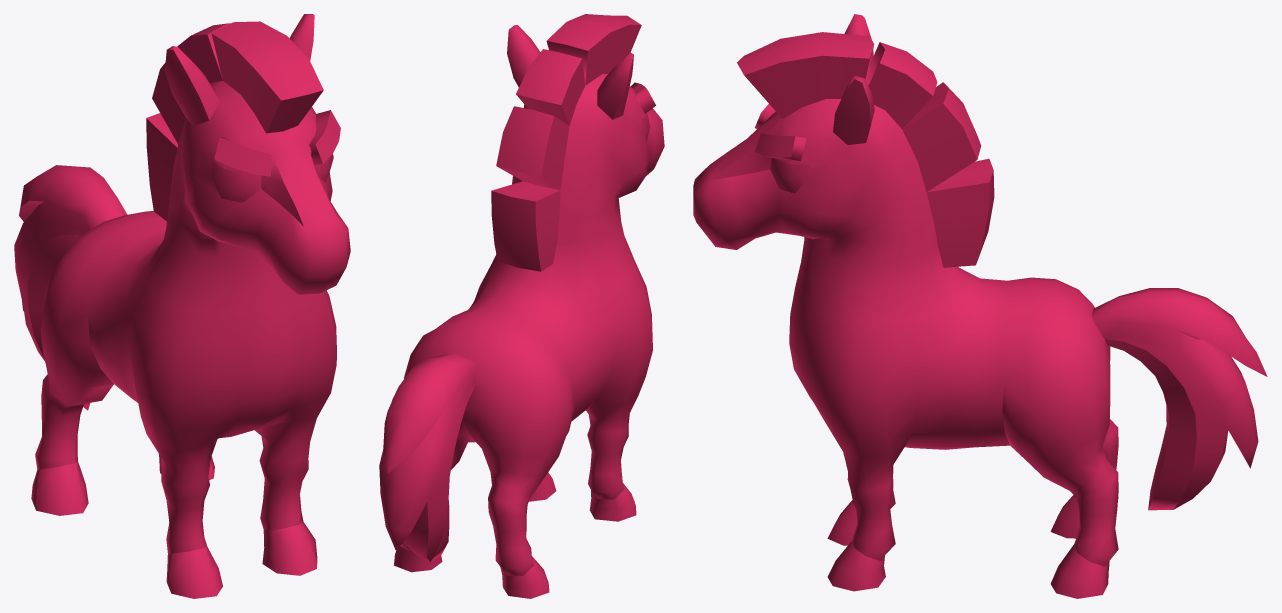
File: FarmAnimals_Horse.fbx
3 views of the same model, side by side, from view 1: azimuth 30°, elevation 25°; view 2: azimuth 150°, elevation 25°; view 3: azimuth 270°, elevation 25° (orthographic). The views are drawn at different scales.
Parts seen in each view (by area): view 1: FarmAnimals_Horse; view 2: FarmAnimals_Horse; view 3: FarmAnimals_Horse.
Part boxes in pixels (<box>): FarmAnimals_Horse: <box>14,14,350,598</box>; FarmAnimals_Horse: <box>379,14,664,598</box>; FarmAnimals_Horse: <box>693,14,1267,598</box>.
Bounding box in the file's own units: 45.94 × 130 × 131.
